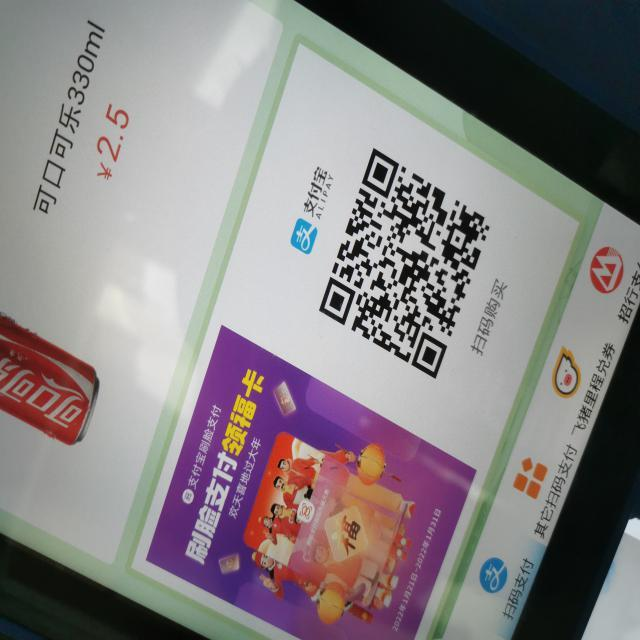qr_code: (318, 148, 491, 380)
